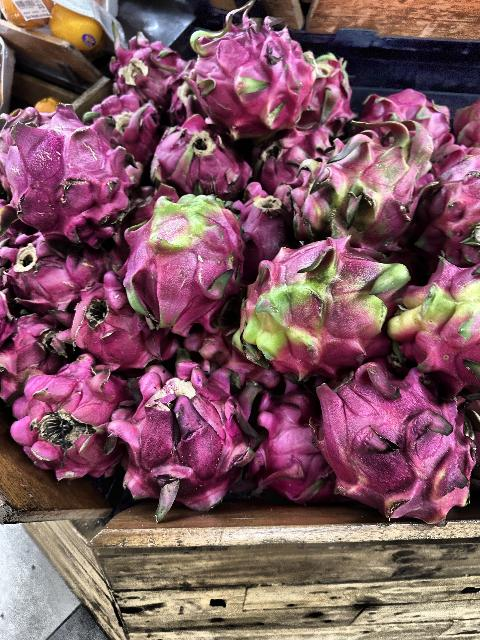buah-naga-belum-matang: (244, 234, 400, 366), (303, 114, 428, 246), (126, 188, 242, 328), (392, 250, 480, 380)
buah-naga-matang: (312, 365, 480, 519), (112, 367, 244, 511), (4, 111, 130, 243), (186, 13, 304, 127), (24, 352, 126, 476), (254, 394, 332, 508), (73, 274, 169, 366), (6, 235, 92, 325), (418, 141, 480, 261), (150, 120, 244, 193), (360, 80, 466, 144), (101, 32, 186, 92), (92, 88, 168, 154), (232, 184, 300, 253), (302, 46, 356, 126), (0, 312, 56, 388), (248, 128, 318, 174)
